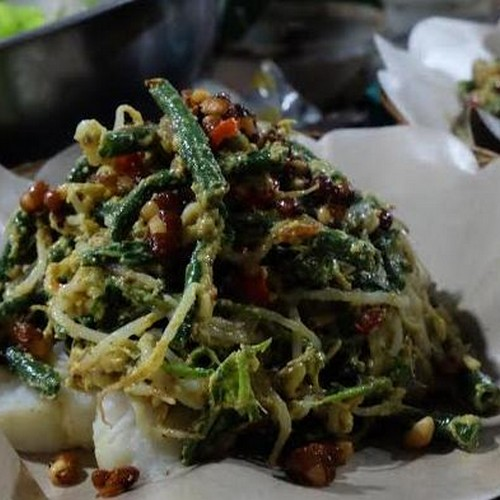serombotan: (33, 121, 479, 446)
